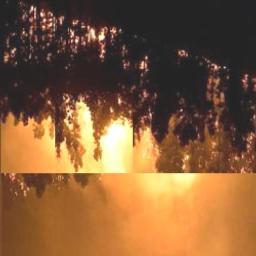Heavy smoke: (0, 173, 255, 256)
Large fire: (0, 0, 256, 176)
